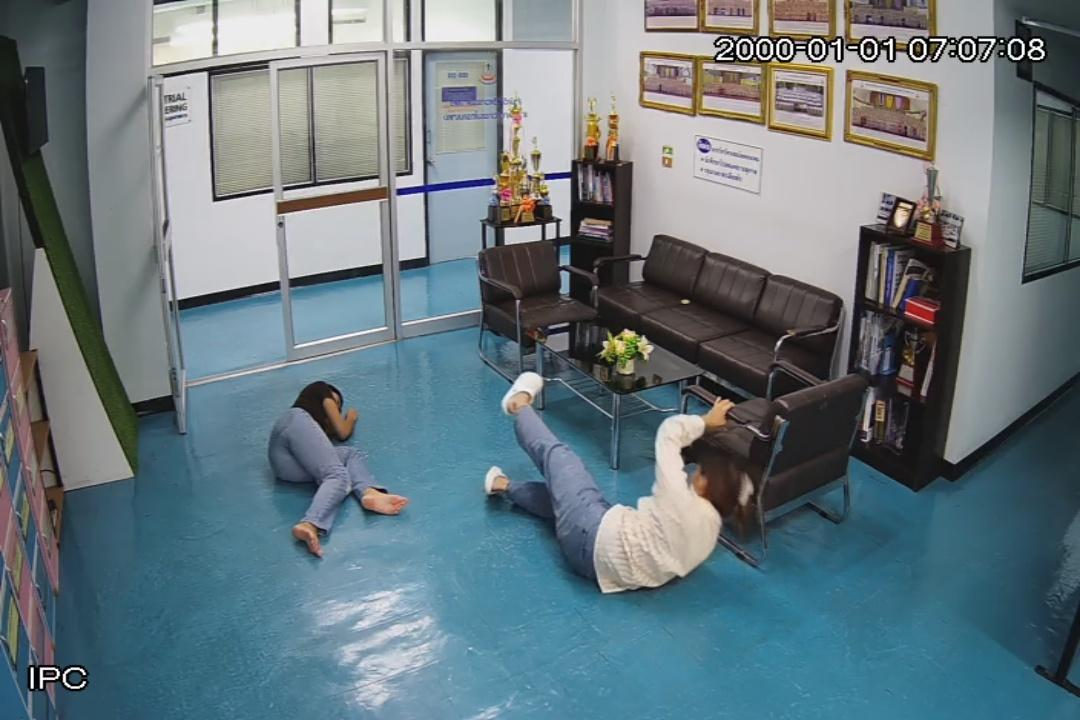fall: (496, 374, 744, 593), (269, 377, 412, 559)
